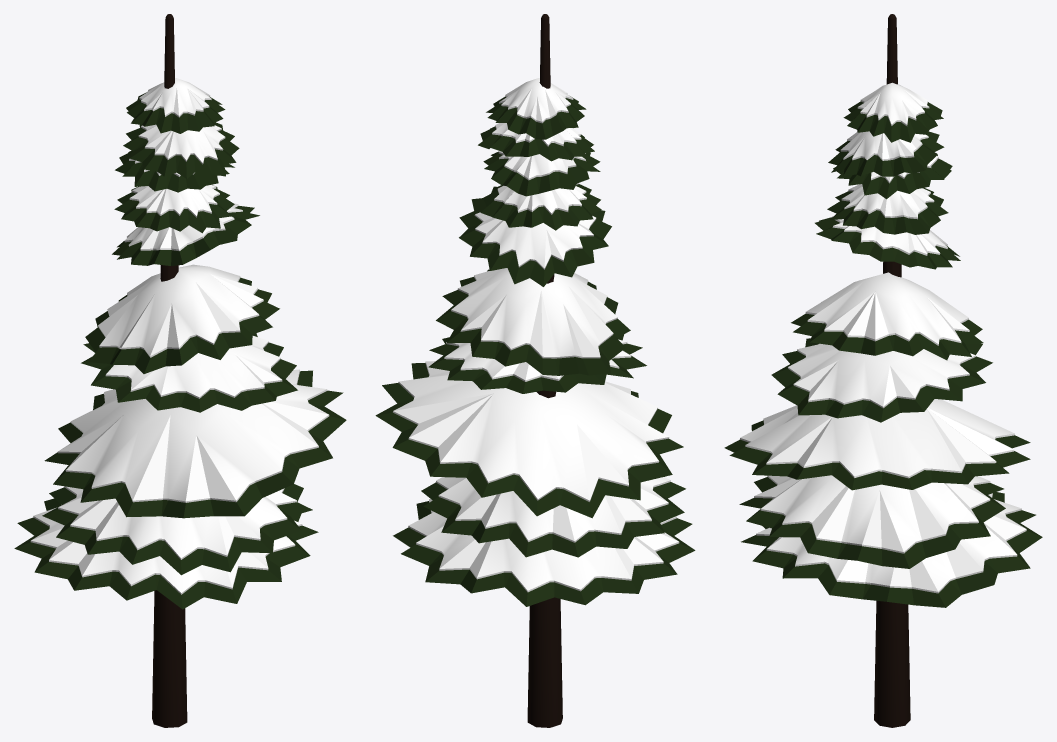
The model's file is s_tree_004.FBX.
3 renders of one model, left to right at view 1: azimuth 30°, elevation 25°; view 2: azimuth 150°, elevation 25°; view 3: azimuth 270°, elevation 25°, orthographic.
Visible parts, largest first — view 1: s_tree_leaves_004 (×2); view 2: s_tree_leaves_004 (×2); view 3: s_tree_leaves_004 (×2).
Part boxes in pixels (x1,y1,x2,y2): s_tree_leaves_004 (×2): (14, 14, 346, 727); s_tree_leaves_004 (×2): (375, 14, 695, 727); s_tree_leaves_004 (×2): (724, 14, 1042, 727).
Bounding box in the file's own units: 1.81 × 4.26 × 1.74.
